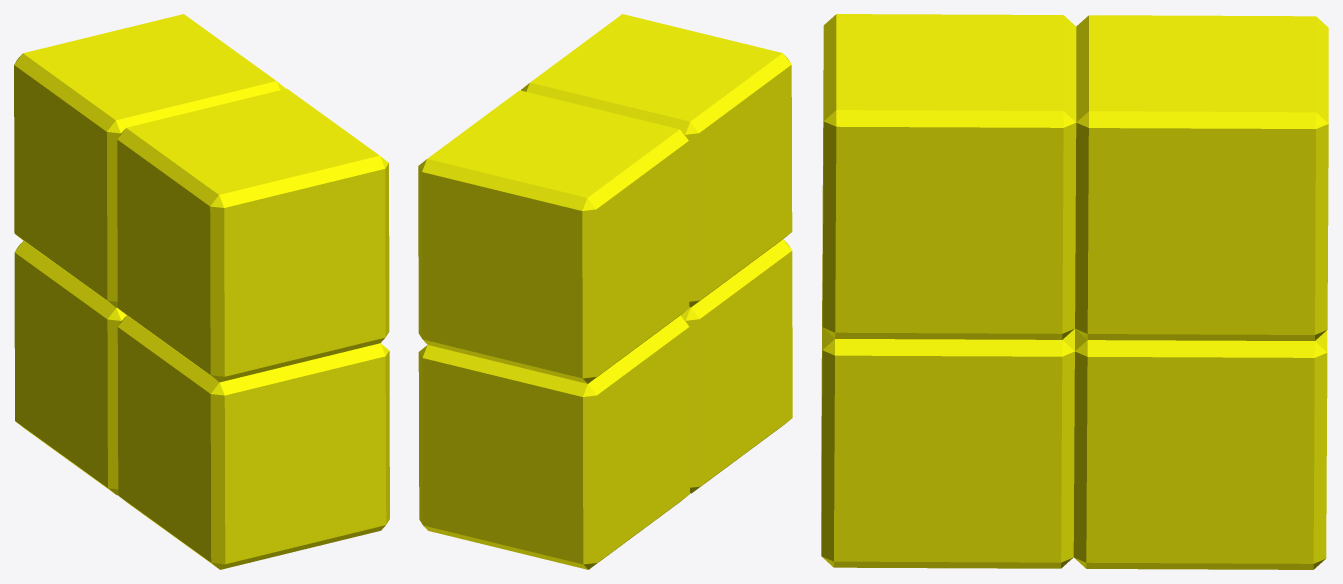
File: 4erBlock.obj
3 renders of one model, left to right at view 1: azimuth 30°, elevation 25°; view 2: azimuth 150°, elevation 25°; view 3: azimuth 270°, elevation 25°, orthographic. The views are drawn at different scales.
Visible parts, largest first — view 1: 4erBlock_Cube.008; view 2: 4erBlock_Cube.008; view 3: 4erBlock_Cube.008.
Part boxes in pixels (x1,y1,x2,y2): 4erBlock_Cube.008: [14, 14, 389, 569]; 4erBlock_Cube.008: [418, 14, 792, 569]; 4erBlock_Cube.008: [821, 14, 1328, 569].
Bounding box in the file's own units: 2 × 4.02 × 4.02.
Materials: 1 (1 with a texture image).
